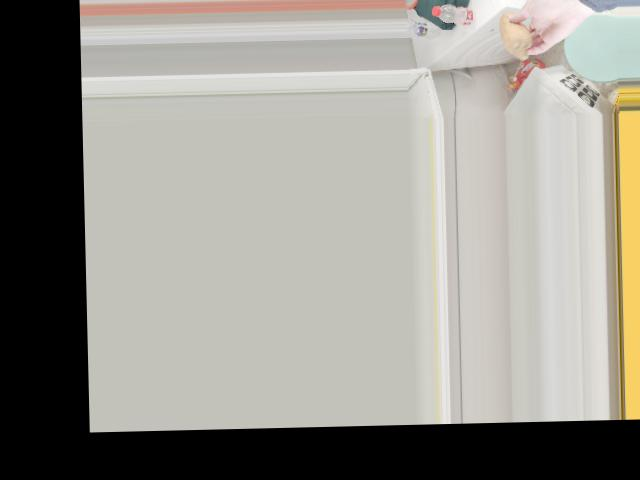sweet_potato: (499, 13, 536, 55)
